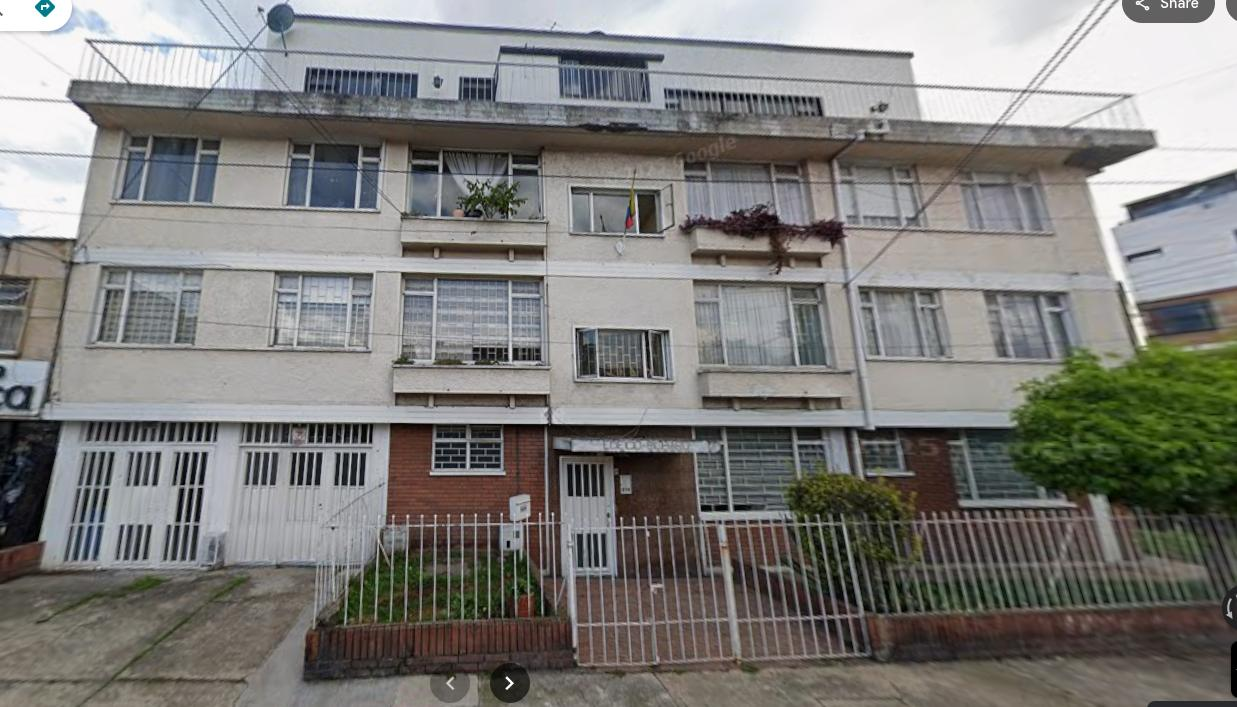casa: (42, 4, 1236, 678)
